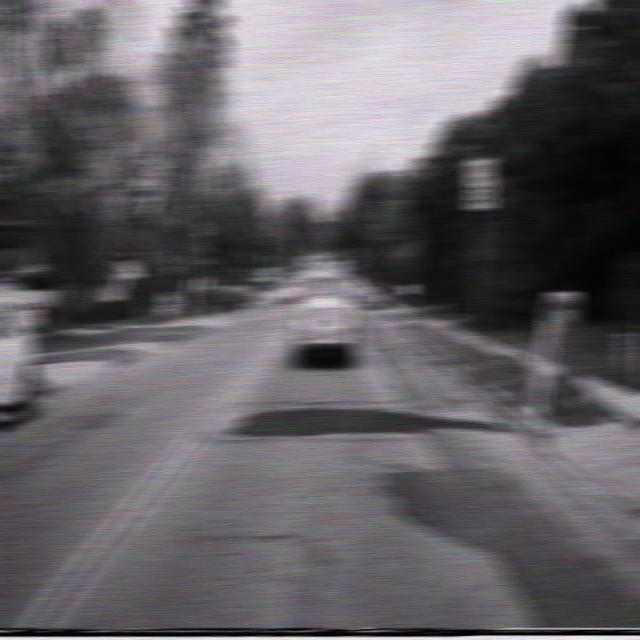speedLimit30: (465, 156, 494, 211)
